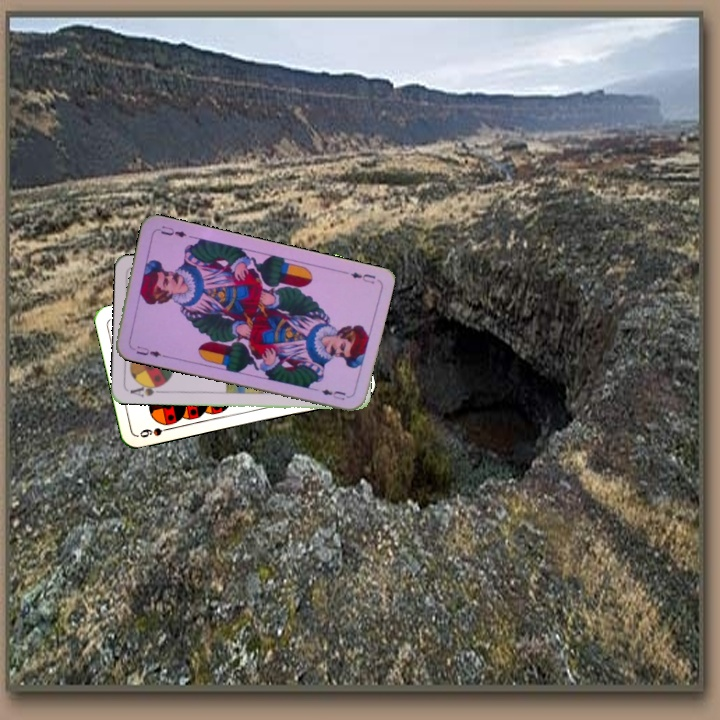EU: (127, 342, 167, 360), (347, 268, 378, 286)
S9: (136, 423, 175, 440)
SA: (126, 379, 166, 399)
